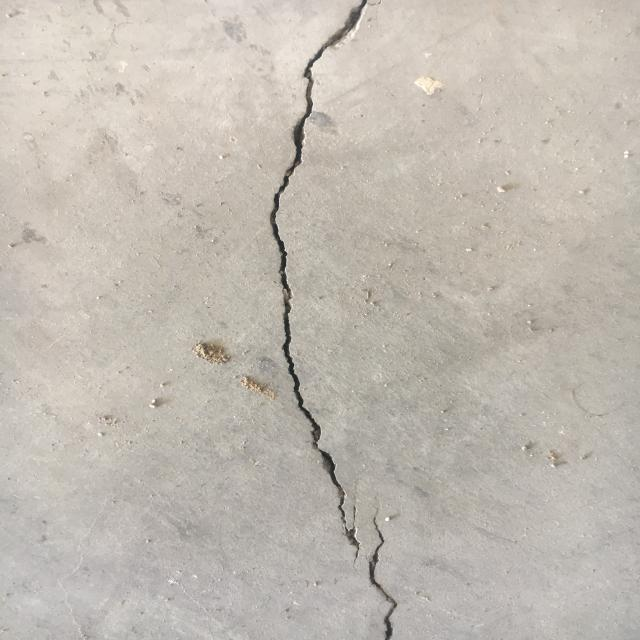Rachadura: (265, 0, 409, 640)
